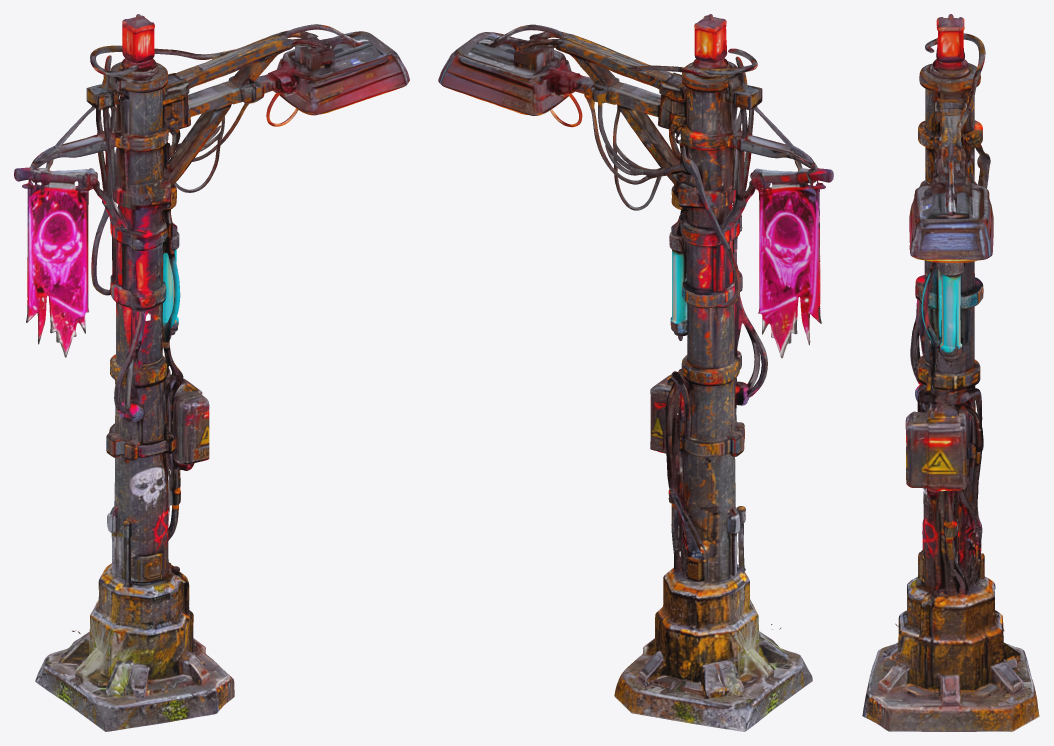
File: street_lamp.glb
The picture shows the model from 3 angles, left to right: view 1: azimuth 30°, elevation 25°; view 2: azimuth 150°, elevation 25°; view 3: azimuth 270°, elevation 25°; orthographic projection.
Parts seen in each view (by area): view 1: world; view 2: world; view 3: world.
Part boxes in pixels (left/top/right/bottom): world: left=14, top=14, right=409, bottom=731; world: left=438, top=14, right=833, bottom=731; world: left=862, top=14, right=1039, bottom=731.
Size of the model in its own units: 1.17 by 1.99 by 0.4665.
Materials: 1 (1 with a texture image).
